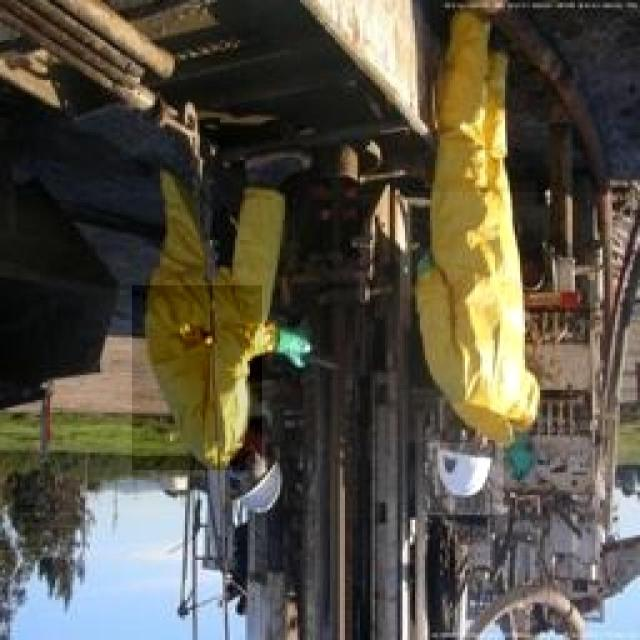Helmet: (406, 192, 550, 443), (132, 286, 262, 470), (425, 417, 503, 515), (232, 442, 308, 524)
